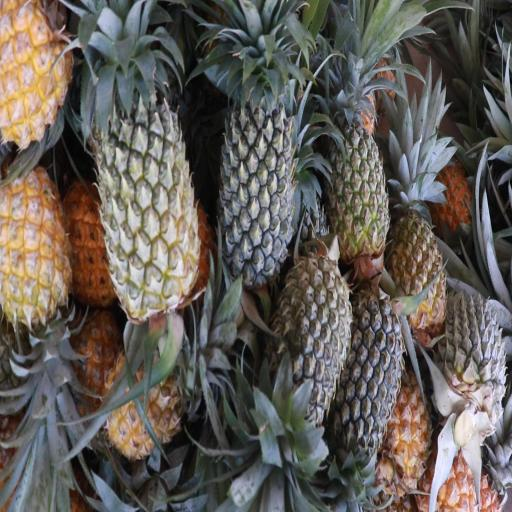------------------------------: (94, 60, 197, 312), (326, 93, 389, 255)
Pineapple - v8 v1: (0, 165, 73, 367), (106, 330, 213, 464), (0, 0, 69, 156), (388, 176, 448, 328)
